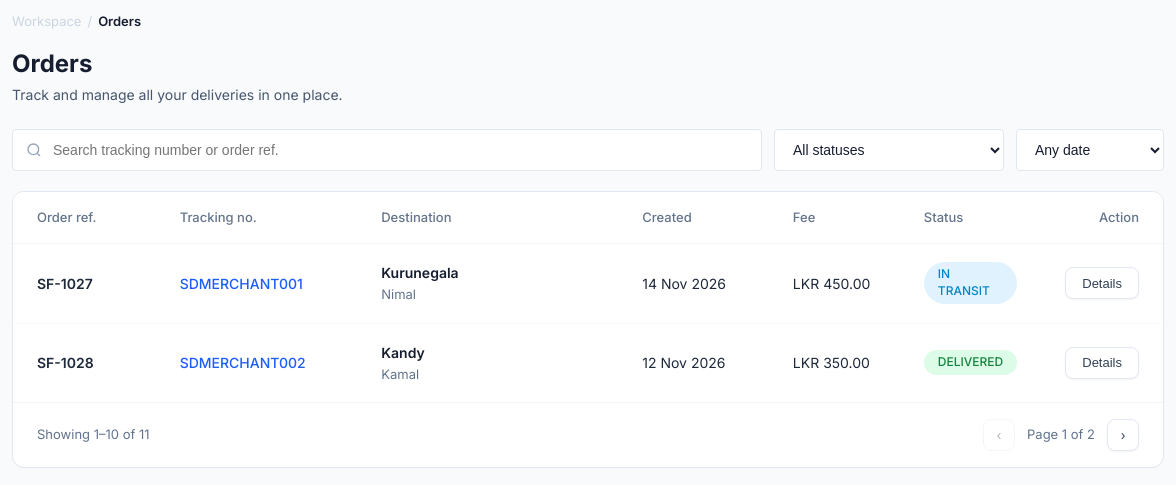
MerchantOrdersPage › filters orders by status select
The image size is (1176, 485).
Expected: the button "SDMERCHANT001" is shown, [180,275,303,292]
Expected: the button "SDMERCHANT002" is shown, [180,354,306,371]
Select "Delivered" in the dropdown named "Filter by status". click: [889, 150]
box: [774,128,1004,170]
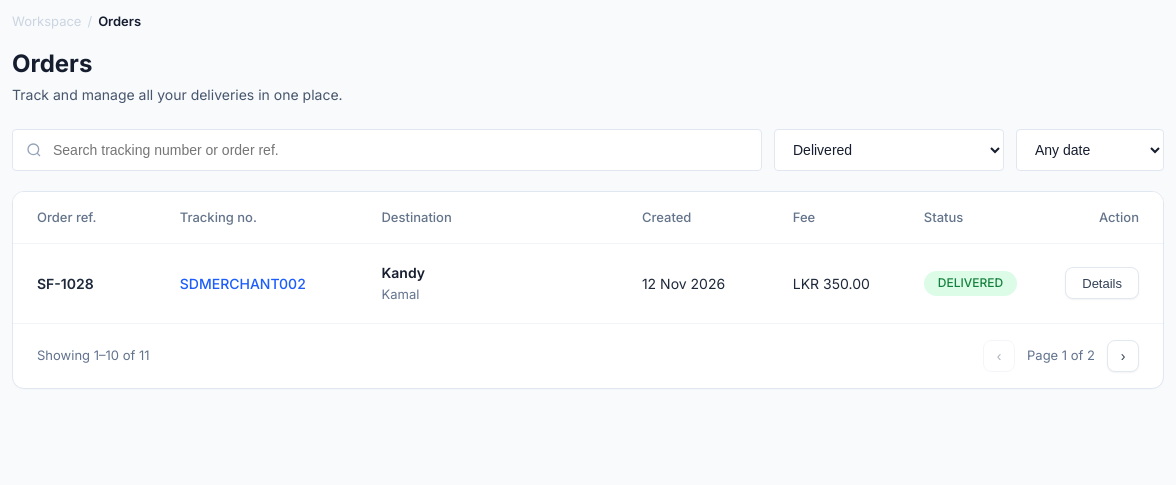
Expected: the button "SDMERCHANT002" is shown, [180,275,306,292]
Expected: the button "SDMERCHANT001" is gone
